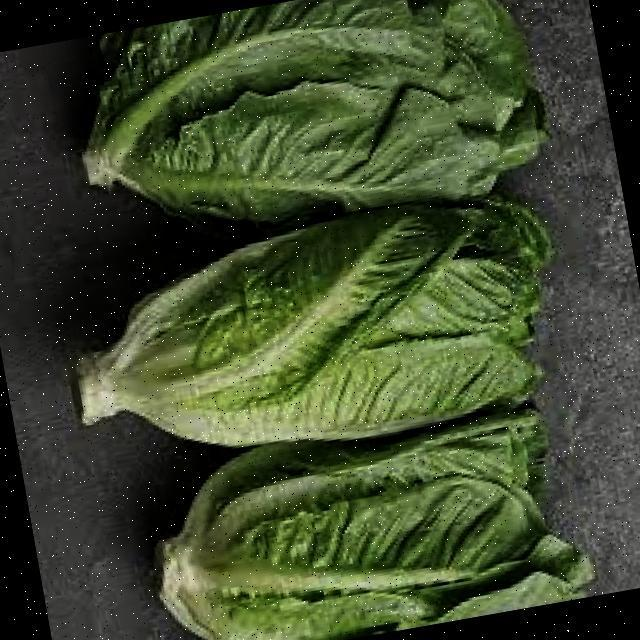healthy: (56, 196, 560, 481), (64, 0, 537, 227), (137, 414, 575, 640)
